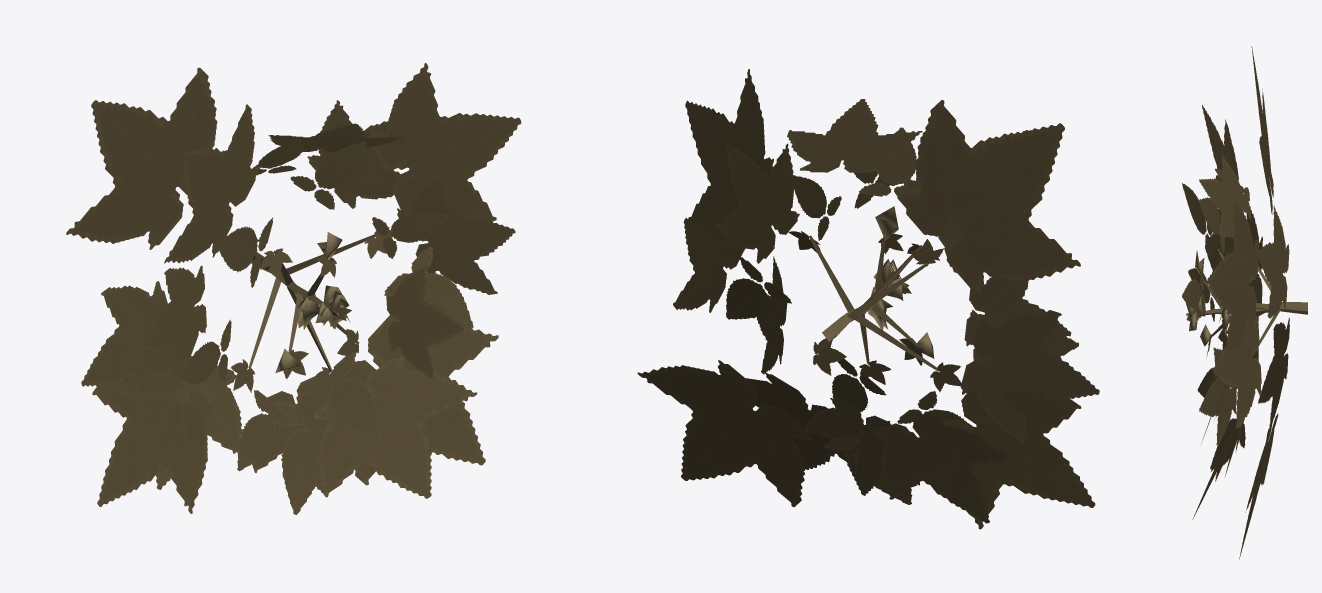
File: p_male_afghan_preflower_c4_cards.obj
3 views of the same model, side by side, from view 1: azimuth 30°, elevation 25°; view 2: azimuth 150°, elevation 25°; view 3: azimuth 270°, elevation 25° (orthographic). The views are drawn at different scales.
Size of the model in its own units: 1.25 by 1.26 by 0.316.
Materials: 1 (1 with a texture image).
